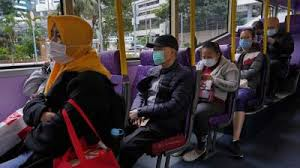mask: (46, 23, 70, 65), (149, 42, 172, 66), (200, 44, 217, 65), (239, 28, 254, 49), (268, 15, 280, 36)
